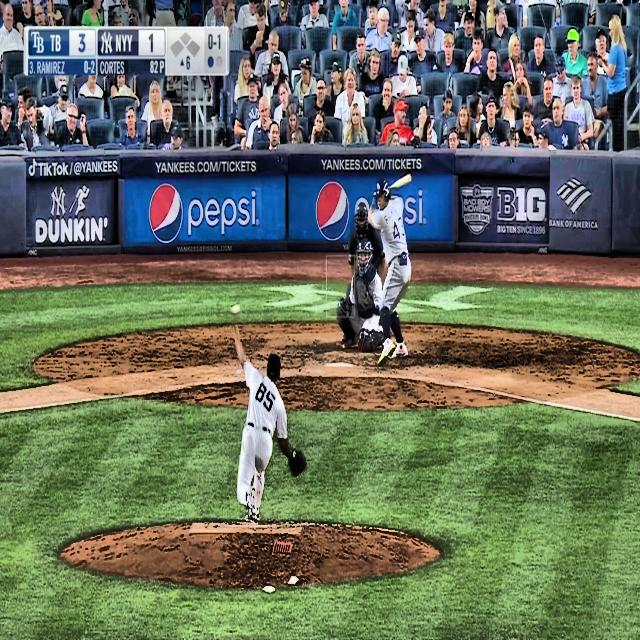baseball: (230, 304, 241, 315)
